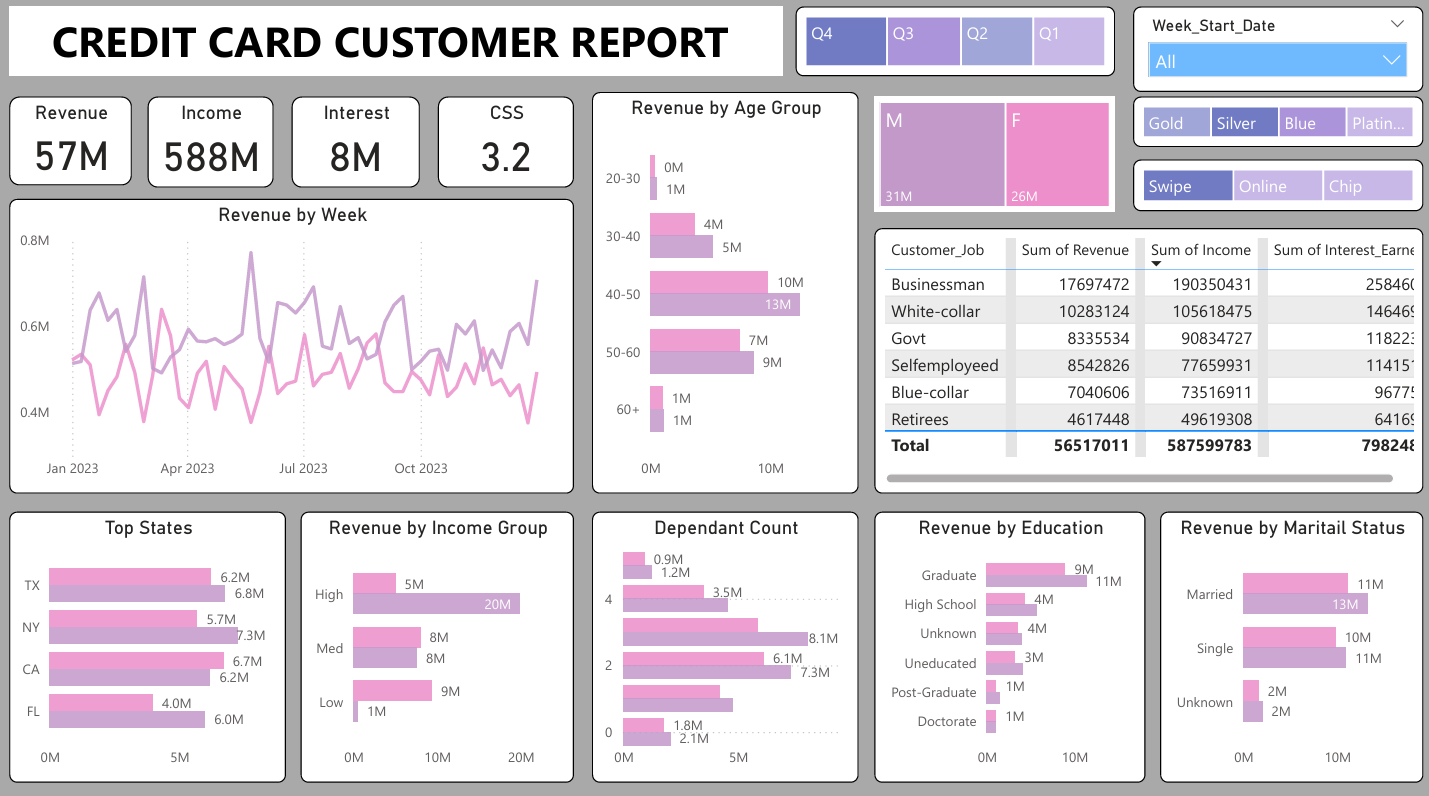

Layout of this report page (visuals, bound fields, positions):
{"tool":"powerbi","page":{"name":"Credit_Customer Report","canvas":[1280,720],"ordinal":2},"visuals":[{"type":"textbox","box":[9.6,12.3,688.9,61.7],"z":0},{"type":"slicer","fields":{"Values":["credit_card.Week_Start_Date"]},"box":[1008.6,12.3,258,75.5],"z":1000},{"type":"treemap","fields":{"Group":["credit_card.Qtr"],"Values":["Avg(credit_card.Client_Num)"]},"box":[709.4,12.1,283.5,61.5],"z":2000},{"type":"treemap","fields":{"Values":["Avg(credit_card.Client_Num)"],"Group":["credit_card.Card_Category"]},"box":[1008.6,91.9,258,45.3],"z":3000},{"type":"treemap","fields":{"Values":["Avg(credit_card.Client_Num)"],"Group":["credit_card.Use Chip"]},"box":[1008.6,148.4,258.2,45.8],"z":4000},{"type":"clusteredBarChart","title":"Revenue by Income Group","fields":{"Category":["customer.Income Group","credit_card.Exp Type"],"Y":["Sum(credit_card.Revenue)"],"Series":["customer.Gender"]},"box":[269,460.9,242.5,241.3],"z":5000},{"type":"tableEx","fields":{"Values":["customer.Customer_Job","Sum(credit_card.Revenue)","Sum(customer.Income)","Sum(credit_card.Interest_Earned)"]},"box":[779.4,208.7,487.4,236.5],"z":6000},{"type":"card","title":"Revenue","fields":{"Values":["Sum(credit_card.Revenue)"]},"box":[9.7,91.7,109.8,79.6],"z":7000},{"type":"card","title":"Income","fields":{"Values":["Sum(customer.Income)"]},"box":[132.7,91.7,112.2,80.8],"z":8000},{"type":"card","title":"Interest","fields":{"Values":["Sum(credit_card.Interest_Earned)"]},"box":[260.6,91.7,114.6,80.8],"z":9000},{"type":"card","title":"CSS","fields":{"Values":["Avg(customer.Cust_Satisfaction_Score)"]},"box":[390.9,91.7,120.6,80.8],"z":10000},{"type":"lineChart","title":"Revenue by Week","fields":{"Y":["Sum(credit_card.Revenue)"],"Series":["customer.Gender"],"Category":["credit_card.Week_Start_Date.Variation.Date Hierarchy.Year","credit_card.Week_Start_Date.Variation.Date Hierarchy.Month","credit_card.Week_Start_Date.Variation.Date Hierarchy.Day"]},"box":[9.7,183.4,501.9,261.8],"z":11000},{"type":"treemap","fields":{"Group":["customer.Gender"],"Values":["Sum(credit_card.Revenue)"]},"box":[779.4,91.7,213.5,103.8],"z":12000},{"type":"clusteredBarChart","title":"Revenue by Age Group","fields":{"Y":["Sum(credit_card.Revenue)"],"Category":["customer.Age Group"],"Series":["customer.Gender"]},"box":[528.4,88.1,236.5,357.1],"z":13000},{"type":"clusteredBarChart","title":"Dependant Count","fields":{"Y":["Sum(credit_card.Revenue)"],"Category":["customer.Dependent_Count"],"Series":["customer.Gender"]},"box":[528.4,460.9,236.5,241.3],"z":14000},{"type":"clusteredBarChart","title":"Revenue by Education","fields":{"Y":["Sum(credit_card.Revenue)"],"Category":["customer.Education_Level"],"Series":["customer.Gender"]},"box":[779.4,460.9,241,241.3],"z":15000},{"type":"clusteredBarChart","title":"Revenue by Maritail Status","fields":{"Y":["Sum(credit_card.Revenue)"],"Category":["customer.Marital_Status"],"Series":["customer.Gender"]},"box":[1032.7,460.9,234,241.3],"z":16000},{"type":"clusteredBarChart","title":"Top States","fields":{"Y":["Sum(credit_card.Revenue)"],"Category":["customer.state_cd"],"Series":["customer.Gender"]},"box":[9.7,460.9,246.1,241.3],"z":17000}]}

Visuals, with their boxes in screenshot pixels (x1, y1, x2, y2), scaled from the page's 1280x720 canvas onto the 1429x796 screenshot:
textbox: (left=11, top=14, right=780, bottom=82)
slicer - credit_card.Week_Start_Date: (left=1126, top=14, right=1414, bottom=97)
treemap - credit_card.Qtr x Avg(credit_card.Client_Num): (left=792, top=13, right=1108, bottom=81)
treemap - Avg(credit_card.Client_Num) x credit_card.Card_Category: (left=1126, top=102, right=1414, bottom=152)
treemap - Avg(credit_card.Client_Num) x credit_card.Use Chip: (left=1126, top=164, right=1414, bottom=215)
"Revenue by Income Group" clusteredBarChart: (left=300, top=510, right=571, bottom=776)
tableEx - customer.Customer_Job x Sum(credit_card.Revenue): (left=870, top=231, right=1414, bottom=492)
"Revenue" card: (left=11, top=101, right=133, bottom=189)
"Income" card: (left=148, top=101, right=273, bottom=191)
"Interest" card: (left=291, top=101, right=419, bottom=191)
"CSS" card: (left=436, top=101, right=571, bottom=191)
"Revenue by Week" lineChart: (left=11, top=203, right=571, bottom=492)
treemap - customer.Gender x Sum(credit_card.Revenue): (left=870, top=101, right=1108, bottom=216)
"Revenue by Age Group" clusteredBarChart: (left=590, top=97, right=854, bottom=492)
"Dependant Count" clusteredBarChart: (left=590, top=510, right=854, bottom=776)
"Revenue by Education" clusteredBarChart: (left=870, top=510, right=1139, bottom=776)
"Revenue by Maritail Status" clusteredBarChart: (left=1153, top=510, right=1414, bottom=776)
"Top States" clusteredBarChart: (left=11, top=510, right=286, bottom=776)
